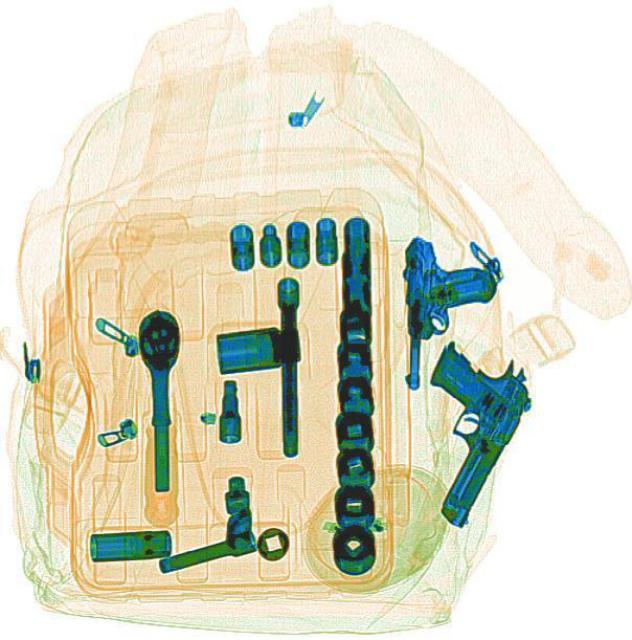Gun: (363, 331, 544, 529), (401, 232, 494, 390)
